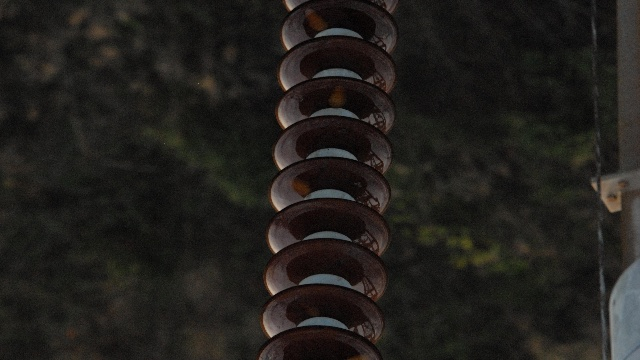insulator_unspecified: (255, 0, 404, 359)
pollution_flashover_local: (302, 6, 329, 31), (329, 81, 350, 106), (290, 178, 312, 199)
